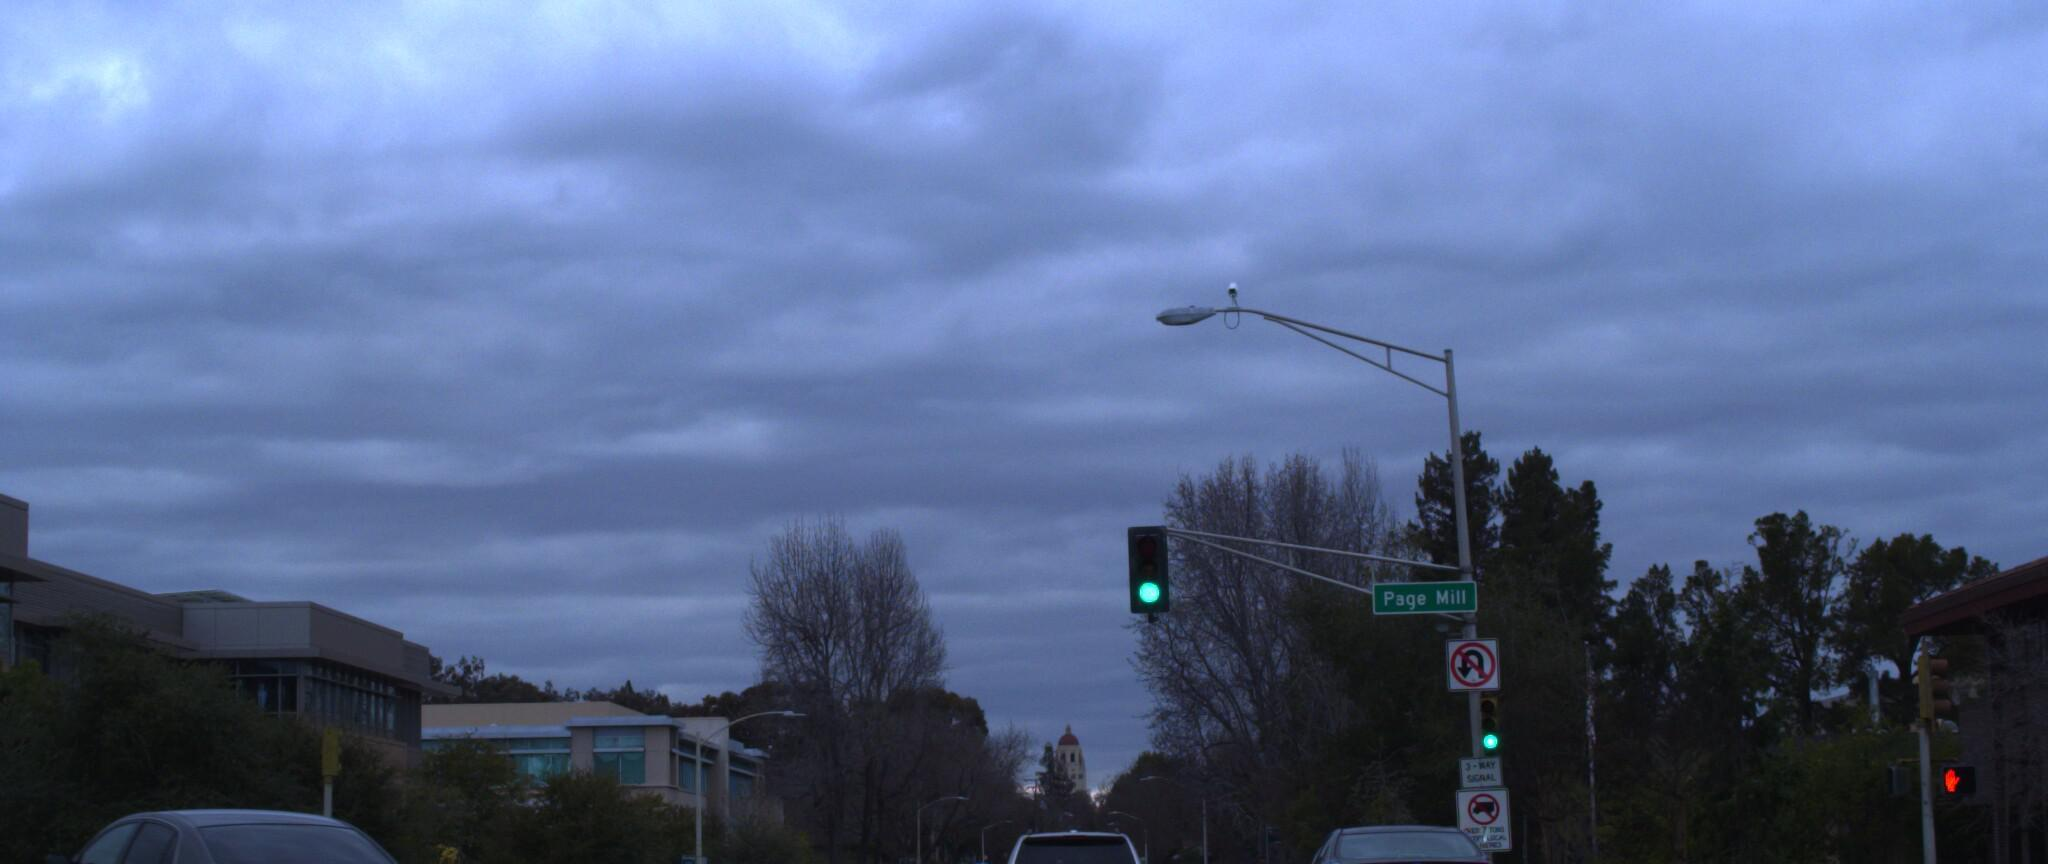car: (0, 804, 445, 864), (1267, 822, 1510, 864), (973, 813, 1153, 864), (650, 857, 814, 864)
